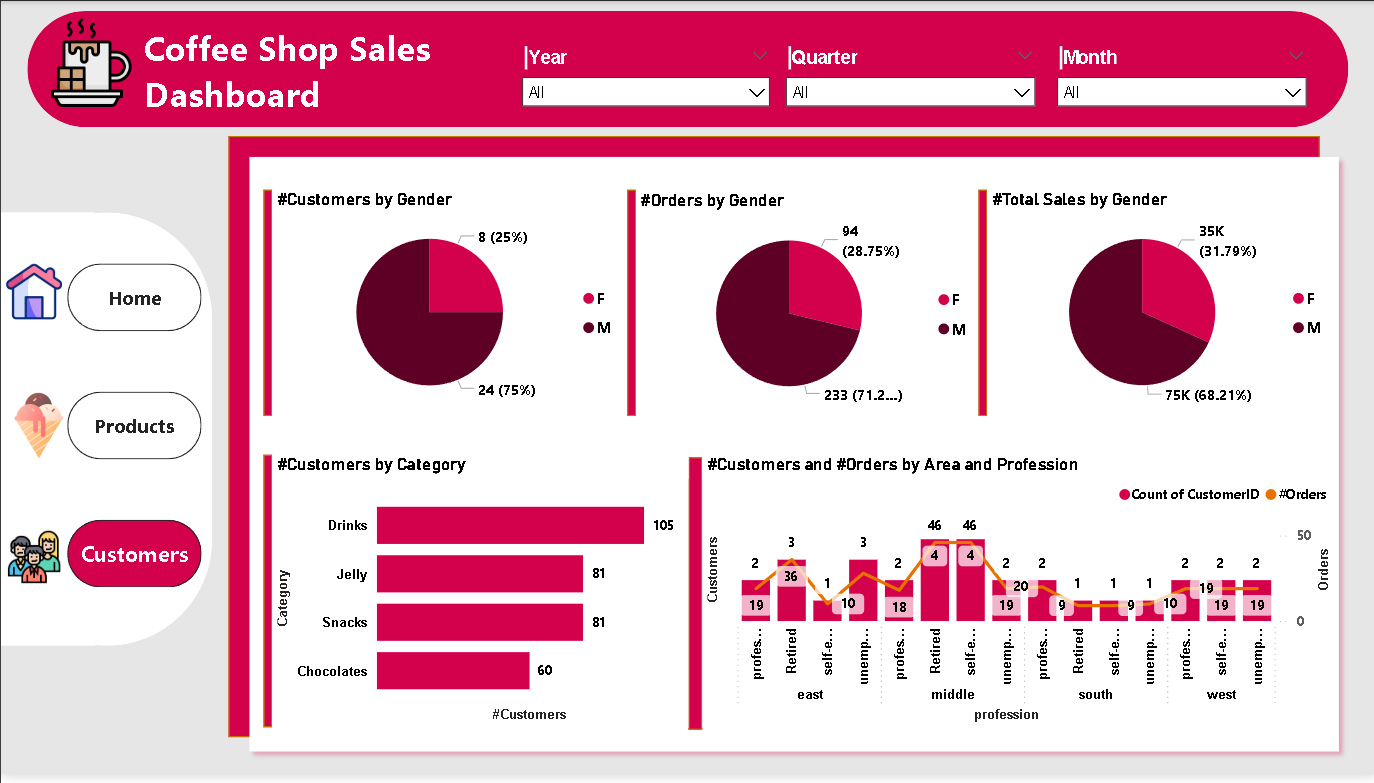

The page's visual inventory and layout, read from the dashboard file:
{"tool":"powerbi","page":{"name":"Customers","canvas":[1280,720],"ordinal":2},"visuals":[{"type":"shape","box":[24.4,9.3,1229.1,108.1],"z":0},{"type":"shape","box":[0,196.5,196.5,403.5],"z":1000},{"type":"image","box":[24.4,9.3,119.8,95.3],"z":2000},{"type":"shape","box":[0,196.5,87.2,403.5],"z":3000},{"type":"textbox","box":[127.9,16.3,355.8,96.5],"z":4000},{"type":"shape","box":[211.6,125.6,1015.1,559.3],"z":5000},{"type":"shape","box":[222.1,136,1031.4,570.9],"z":6000},{"type":"image","box":[0,239.1,61.6,61.6],"z":7000},{"type":"image","box":[0,487.2,61.6,60.5],"z":8000},{"type":"image","box":[0,358.1,70.9,73.3],"z":9000},{"type":"shape","box":[244.2,422.1,8.1,253.5],"z":10000},{"type":"shape","box":[639.5,424.4,12.8,253.5],"z":11000},{"type":"shape","box":[244.2,175.6,8.1,210.5],"z":12000},{"type":"slicer","fields":{"Values":["Sales.Date.Variation.Date Hierarchy.Year"]},"box":[474.4,37.2,251.2,67.4],"z":13000},{"type":"slicer","fields":{"Values":["Sales.Date.Variation.Date Hierarchy.Quarter"]},"box":[719.8,37.2,252.3,67.4],"z":14000},{"type":"slicer","fields":{"Values":["Sales.Date.Variation.Date Hierarchy.Month"]},"box":[972.1,37.2,252.3,67.4],"z":15000},{"type":"pageNavigator","box":[61.6,244,125.6,303.5],"z":16000},{"type":"barChart","title":"#Customers by Category","fields":{"Category":["Products.Category"],"Y":["CountNonNull(Sales.CustomerID)"]},"box":[252.3,422.1,387.2,253.5],"z":17000},{"type":"pieChart","title":"#Customers by Gender","fields":{"Series":["Customers.Gender"],"Y":["CountNonNull(Customers.CustomerID)"]},"box":[252.3,175.6,330.2,210.5],"z":18000},{"type":"shape","box":[582.6,175.6,8.1,210.5],"z":19000},{"type":"pieChart","title":"#Orders by Gender","fields":{"Series":["Customers.Gender"],"Y":["Dax measures.#Orders"]},"box":[590.7,176.7,322.1,210.5],"z":20000},{"type":"shape","box":[909.3,175.6,8.1,210.5],"z":21000},{"type":"pieChart","title":"#Total Sales by Gender","fields":{"Series":["Customers.Gender"],"Y":["Dax measures.Total Sales"]},"box":[917.4,175.6,325.6,210.5],"z":22000},{"type":"lineStackedColumnComboChart","title":"#Customers and #Orders by Area and Profession","fields":{"Y":["CountNonNull(Customers.CustomerID)"],"Category":["Customers.Area","Customers.profession"],"Y2":["Dax measures.#Orders"]},"box":[652.3,422.1,590.7,253.5],"z":23000}]}

Visuals, with their boxes in screenshot pixels (x1, y1, x2, y2), scaled from the page's 1280x720 canvas onto the 1374x783 screenshot:
shape: locate(26, 10, 1346, 128)
shape: locate(0, 214, 211, 652)
image: locate(26, 10, 155, 114)
shape: locate(0, 214, 94, 652)
textbox: locate(137, 18, 519, 123)
shape: locate(227, 137, 1317, 745)
shape: locate(238, 148, 1346, 769)
image: locate(0, 260, 66, 327)
image: locate(0, 530, 66, 596)
image: locate(0, 389, 76, 469)
shape: locate(262, 459, 271, 735)
shape: locate(686, 462, 700, 737)
shape: locate(262, 191, 271, 420)
slicer - Sales.Date.Variation.Date Hierarchy.Year: locate(509, 40, 779, 114)
slicer - Sales.Date.Variation.Date Hierarchy.Quarter: locate(773, 40, 1043, 114)
slicer - Sales.Date.Variation.Date Hierarchy.Month: locate(1043, 40, 1314, 114)
pageNavigator: locate(66, 265, 201, 595)
"#Customers by Category" barChart: locate(271, 459, 686, 735)
"#Customers by Gender" pieChart: locate(271, 191, 625, 420)
shape: locate(625, 191, 634, 420)
"#Orders by Gender" pieChart: locate(634, 192, 980, 421)
shape: locate(976, 191, 985, 420)
"#Total Sales by Gender" pieChart: locate(985, 191, 1334, 420)
"#Customers and #Orders by Area and Profession" lineStackedColumnComboChart: locate(700, 459, 1334, 735)
